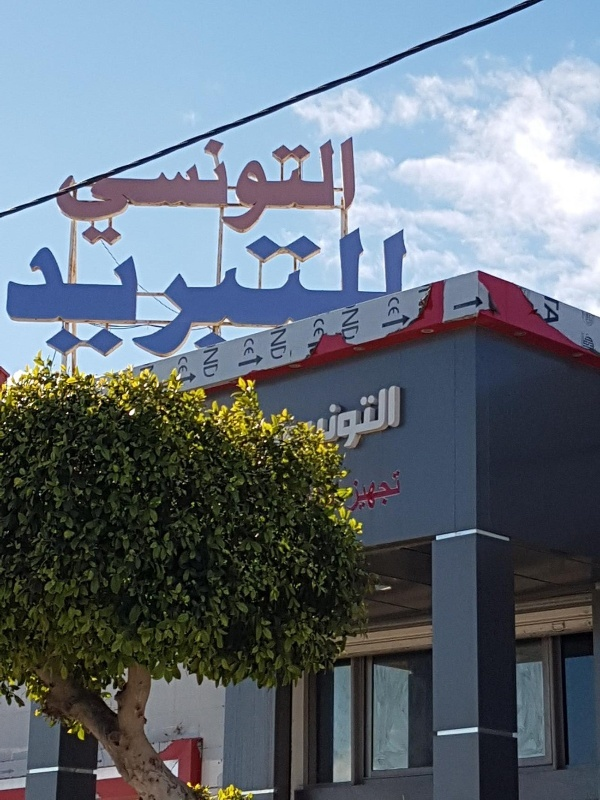text: (17, 224, 32, 369), (33, 224, 48, 369), (49, 224, 64, 369), (65, 224, 80, 369), (81, 224, 96, 369), (97, 224, 112, 369), (113, 224, 128, 369), (129, 224, 144, 369), (145, 224, 160, 369), (161, 224, 176, 369), (177, 224, 192, 369), (193, 224, 208, 369), (209, 224, 224, 369), (225, 224, 240, 369), (241, 224, 256, 369), (257, 224, 272, 369), (273, 224, 288, 369), (289, 224, 304, 369), (305, 224, 320, 369), (321, 224, 336, 369), (337, 224, 352, 369), (353, 224, 368, 369), (369, 224, 384, 369), (385, 224, 400, 369), (2, 224, 16, 369), (65, 131, 80, 246), (81, 131, 96, 246), (97, 131, 112, 246), (113, 131, 128, 246), (129, 131, 144, 246), (145, 131, 160, 246), (161, 131, 176, 246), (177, 131, 192, 246), (193, 131, 208, 246), (209, 131, 224, 246), (225, 131, 240, 246), (241, 131, 256, 246), (257, 131, 272, 246), (273, 131, 288, 246), (289, 131, 304, 246), (305, 131, 320, 246), (321, 131, 336, 246), (337, 131, 352, 246), (401, 224, 411, 369), (55, 131, 64, 246), (305, 385, 320, 450), (321, 385, 336, 450), (337, 385, 352, 450), (353, 385, 368, 450), (369, 385, 384, 450), (385, 385, 400, 450), (353, 470, 368, 513), (369, 470, 384, 513), (385, 470, 400, 513), (353, 131, 357, 246), (273, 330, 288, 360), (298, 385, 304, 450), (341, 308, 352, 341), (209, 348, 220, 377), (545, 302, 560, 323), (387, 295, 400, 317), (244, 338, 256, 360), (179, 355, 192, 374), (353, 308, 360, 341), (348, 470, 352, 513), (312, 318, 320, 337), (321, 318, 328, 337), (401, 470, 404, 513), (583, 339, 592, 349), (205, 348, 208, 377), (401, 385, 402, 450), (271, 330, 272, 360), (543, 302, 544, 323), (593, 339, 595, 349)
